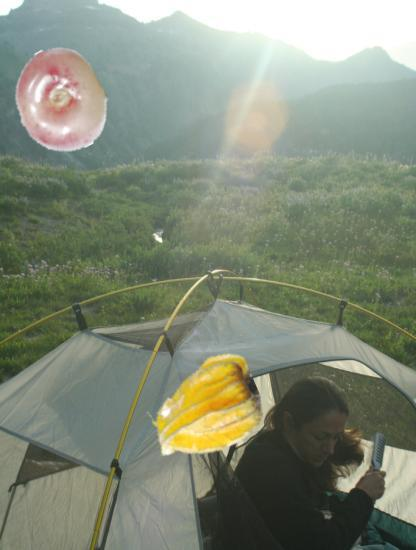Cherry: (6, 48, 113, 155)
Physalis: (145, 351, 262, 468)
